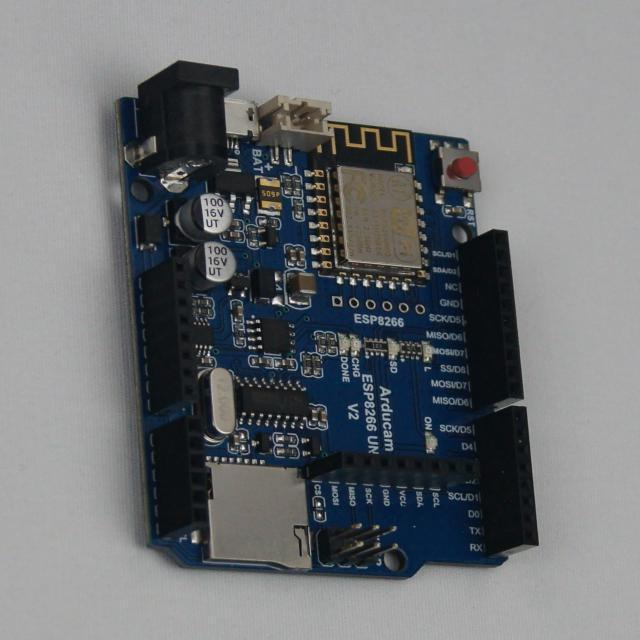Arduino Uno Camera Shield: (120, 62, 537, 579)
